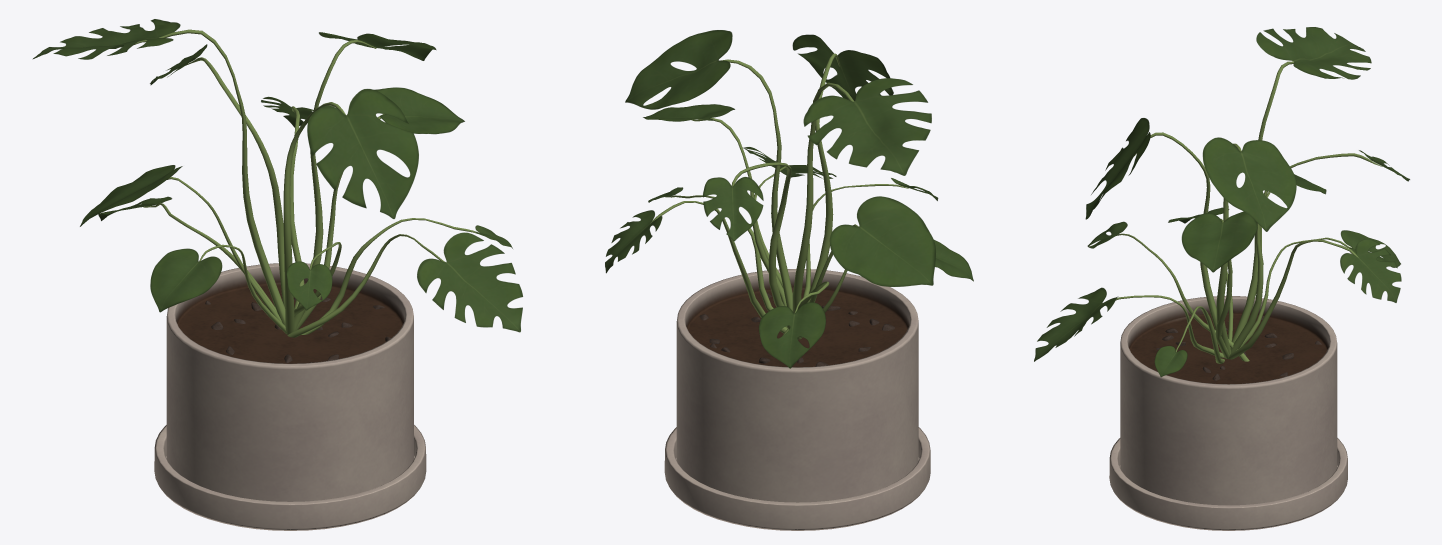
The model's file is monstera_deliciosa.glb.
3 views of the same model, side by side, from view 1: azimuth 30°, elevation 25°; view 2: azimuth 150°, elevation 25°; view 3: azimuth 270°, elevation 25° (orthographic). The views are drawn at different scales.
Parts seen in each view (by area): view 1: Pot_01, Monstera_Plant; view 2: Pot_01, Monstera_Plant; view 3: Pot_01, Monstera_Plant.
Boxes of the visible parts, bbox=[...] form: Pot_01: bbox=[154, 263, 426, 530]; Monstera_Plant: bbox=[32, 19, 522, 337]; Pot_01: bbox=[664, 269, 930, 530]; Monstera_Plant: bbox=[605, 30, 973, 368]; Pot_01: bbox=[1109, 296, 1347, 530]; Monstera_Plant: bbox=[1034, 27, 1409, 377].
Size of the model in its own units: 0.869 by 0.8893 by 0.849.
Materials: 2 (2 with a texture image).
